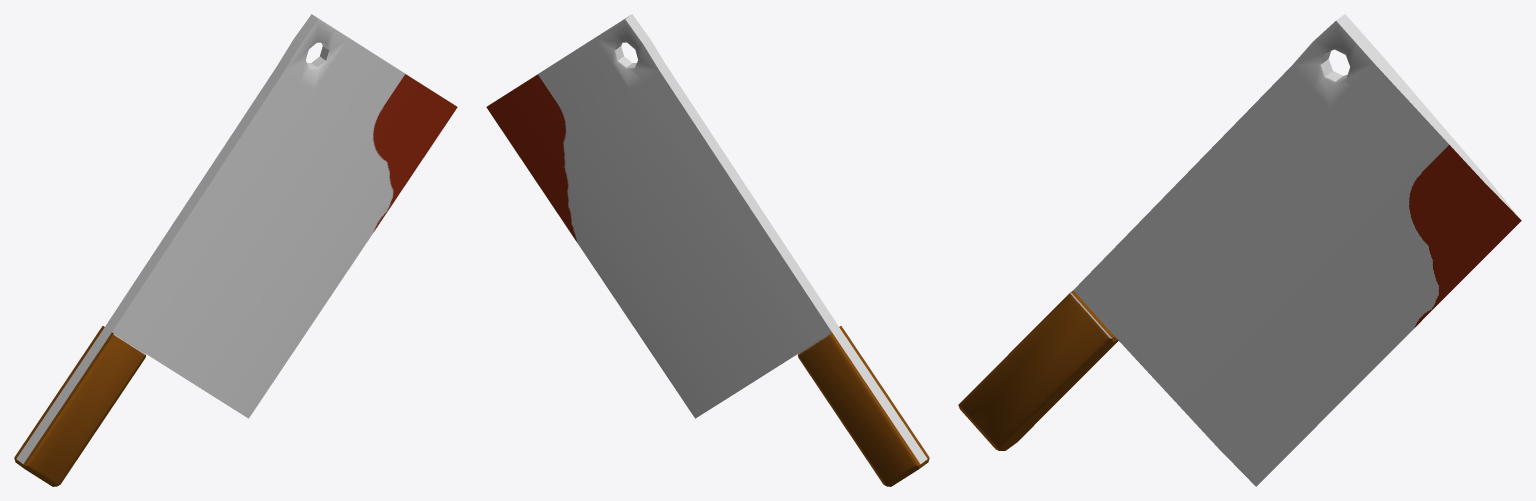
The model's file is Bloodthirsty_Cleaver.fbx.
3 renders of one model, left to right at view 1: azimuth 30°, elevation 25°; view 2: azimuth 150°, elevation 25°; view 3: azimuth 330°, elevation 25°, orthographic. The views are drawn at different scales.
Visible parts, largest first — view 1: Cube; view 2: Cube; view 3: Cube.
Part boxes in pixels (bbox=[...]): Cube: bbox=[14, 14, 457, 486]; Cube: bbox=[486, 14, 929, 486]; Cube: bbox=[958, 14, 1521, 486].
Bounding box in the file's own units: 403 × 354 × 21.04.
1 material, 1 textured.
